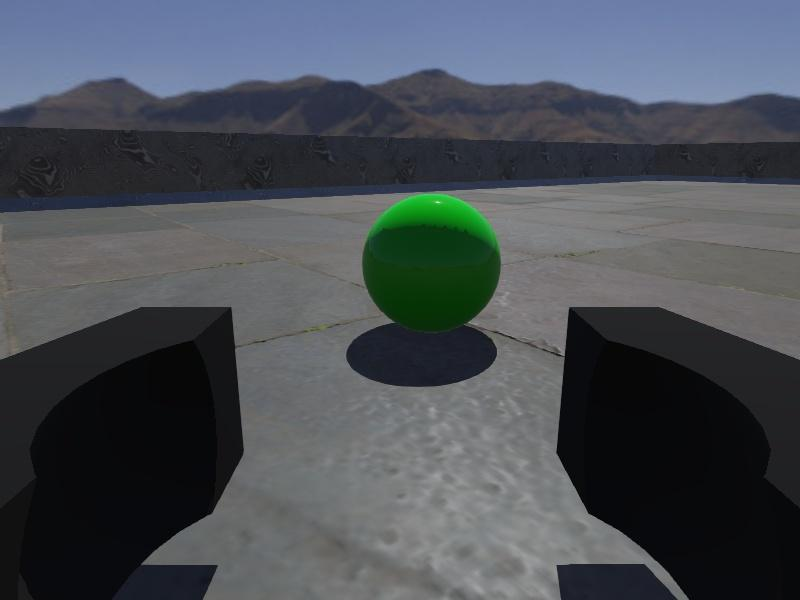green ball: (362, 192, 502, 335)
